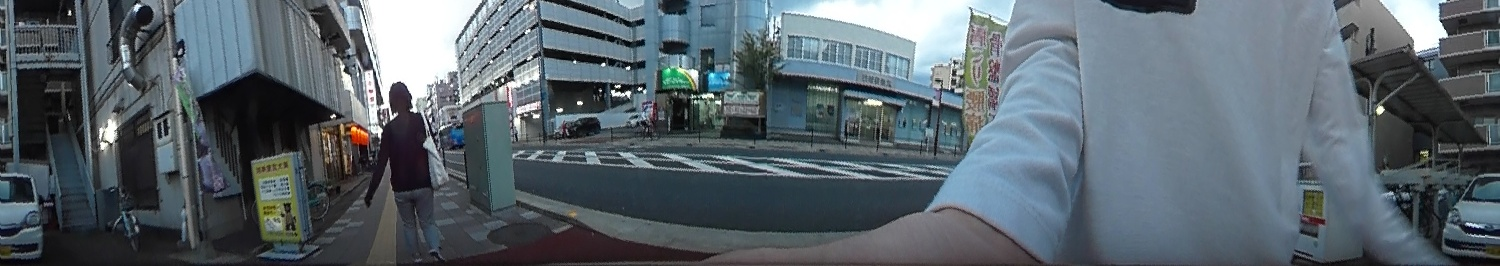difficult_person: (637, 102, 656, 139)
person: (362, 74, 460, 255)
